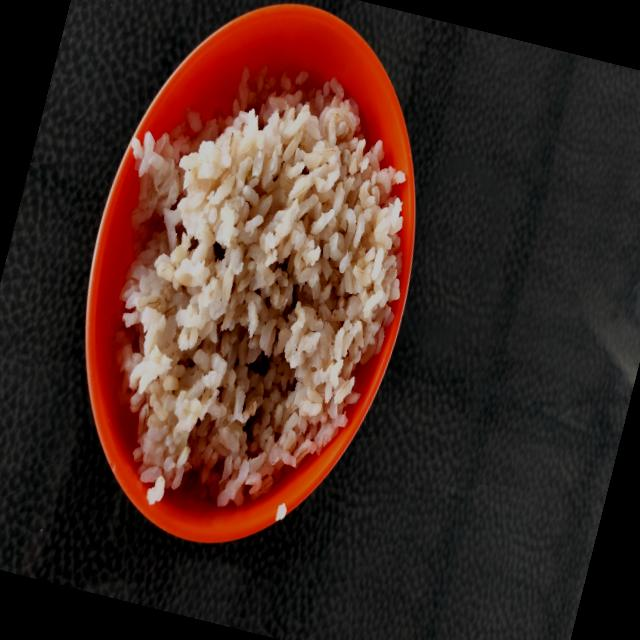brown-rice: (111, 65, 404, 507)
